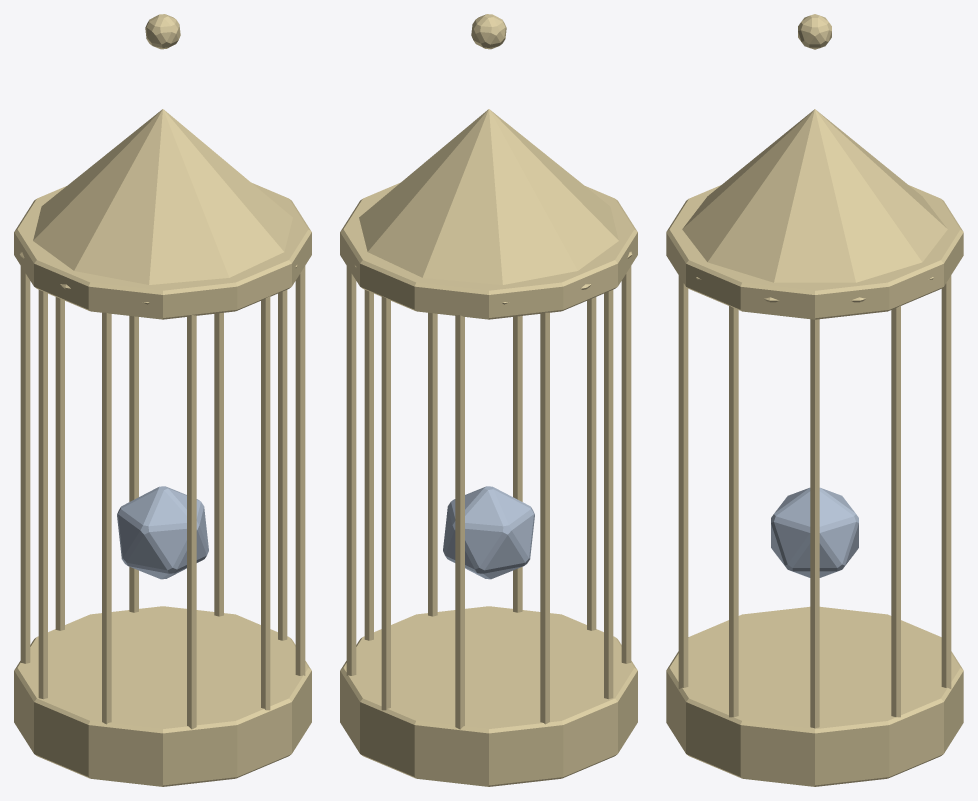
File: SM_Bird_Cage.fbx
3 views of the same model, side by side, from view 1: azimuth 30°, elevation 25°; view 2: azimuth 150°, elevation 25°; view 3: azimuth 270°, elevation 25° (orthographic).
Visible parts, largest first — view 1: Bird_Cage; view 2: Bird_Cage; view 3: Bird_Cage.
Part boxes in pixels (x1,y1,x2,y2): Bird_Cage: (14, 14, 311, 786); Bird_Cage: (340, 14, 637, 786); Bird_Cage: (666, 14, 963, 786).
Size of the model in its own units: 28 by 73.64 by 28.
